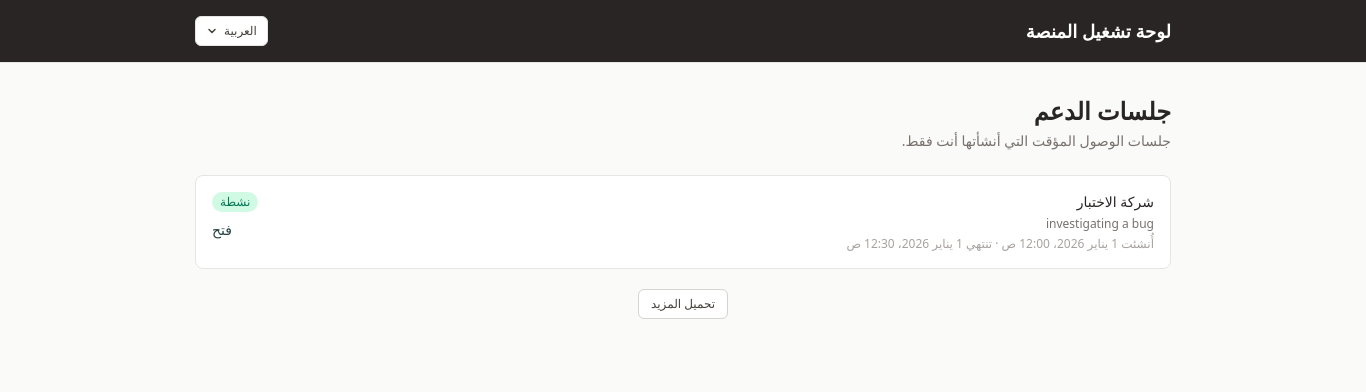
<PlatformSupportSessions/> › shows load-more when hasMore is true and appends the next page
Click the button "تحميل المزيد".
click(683, 304)  # box [638,289,728,319]
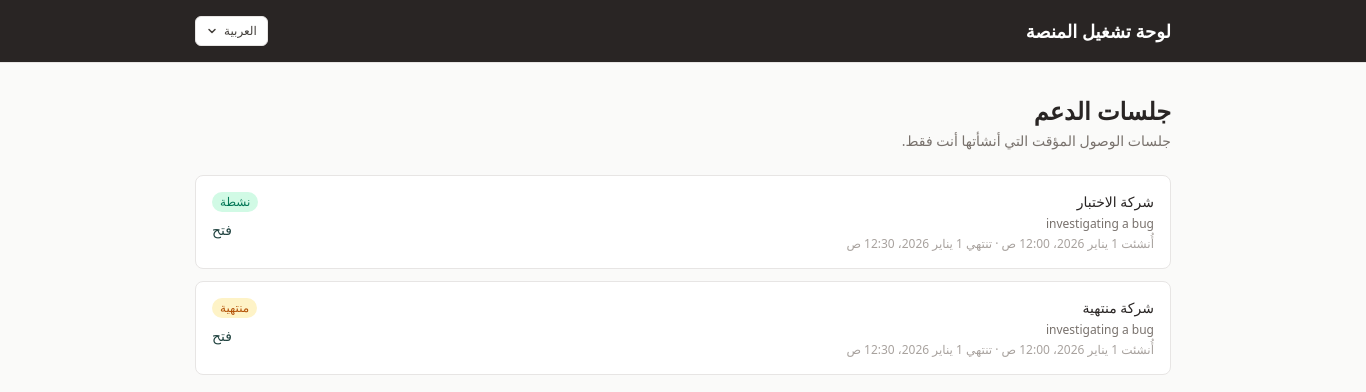
Expected: the text "شركة منتهية" is shown, [1083,298,1154,317]
Expected: the button "تحميل المزيد" is gone
